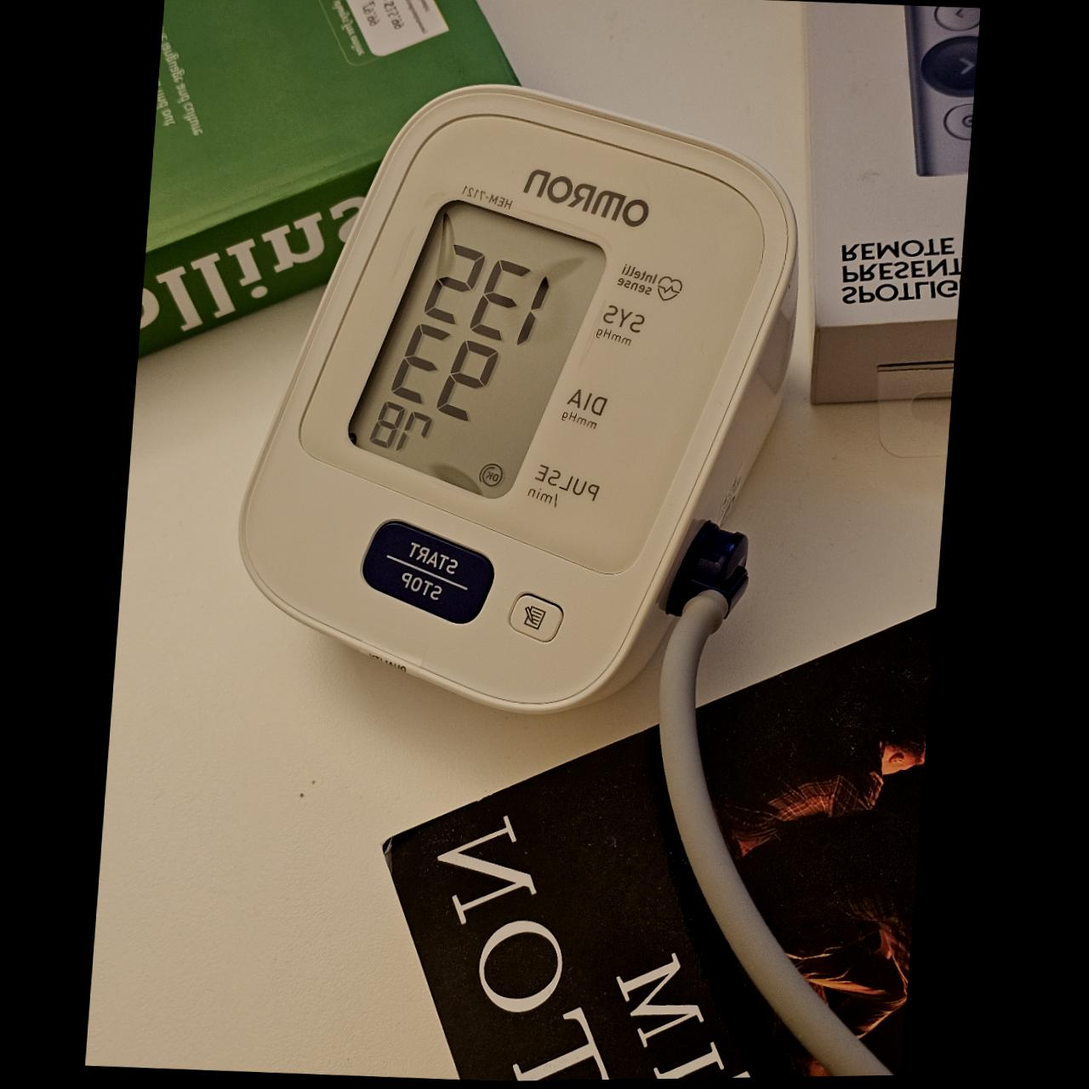blood pressure monitor: (224, 66, 826, 740)
